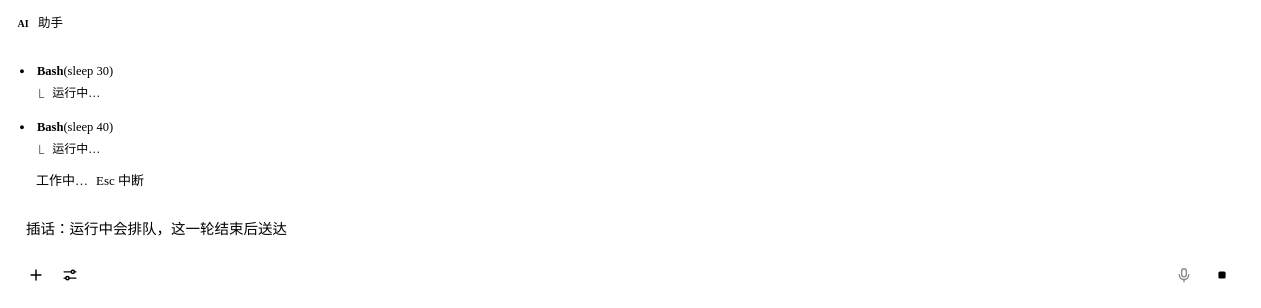
Test: 转录 › 中断：还在跑的工具变成 ⏸ 已中断
Expected: the element with test id "conv-typing" shows "Esc", [96,173,144,188]
Click the button with test id "conv-interrupt".
click(1222, 275)  # box [1206,259,1238,291]
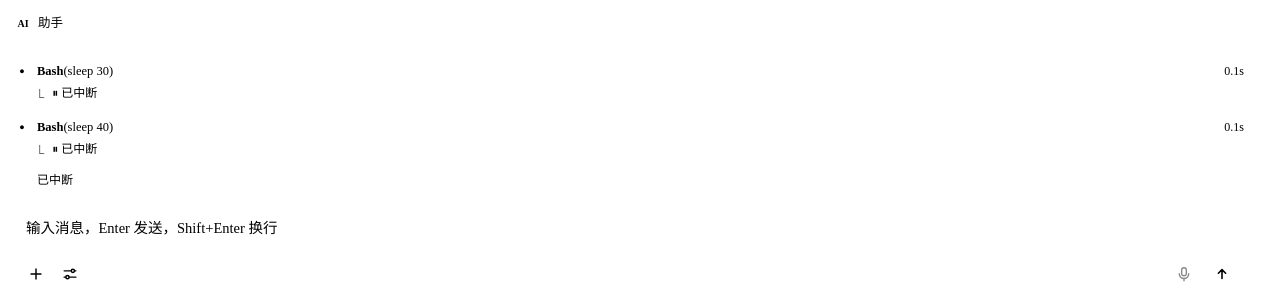
Expected: the button with test id "conv-tool" shows "⏸", [16,60,1244,104]
Expected: the 1st element with test id "conv-tool-summary" shows "已中断", [52,86,97,100]
